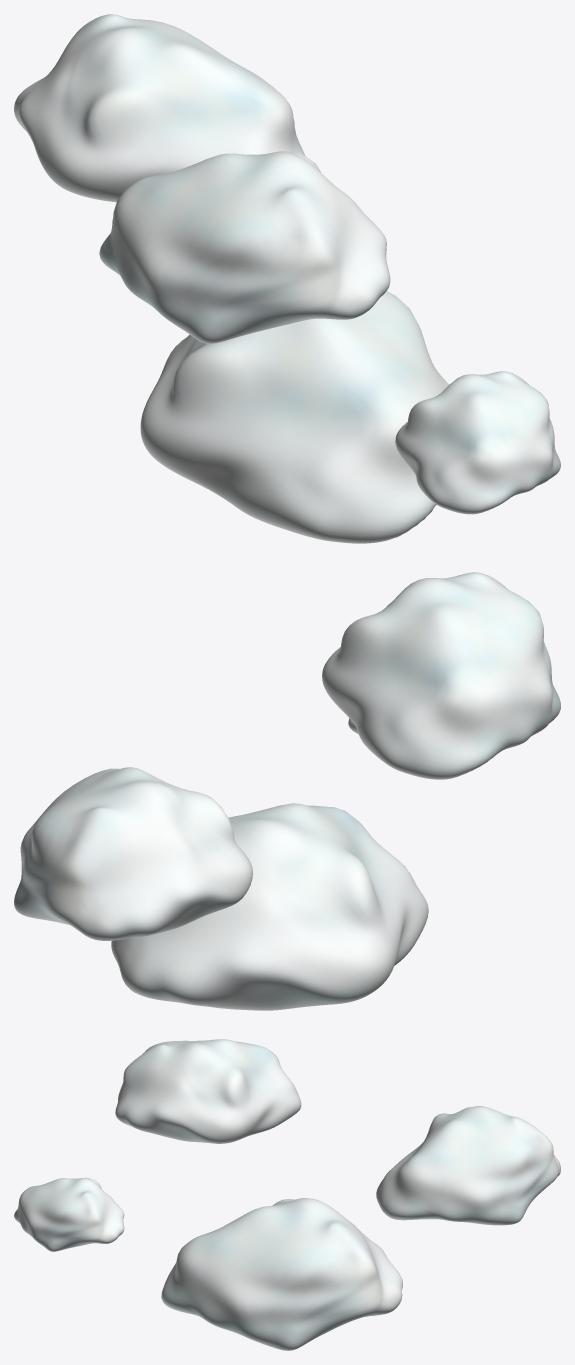
Rendered from kumo.fbx.
3 views of the same model, one above another, from view 1: azimuth 30°, elevation 25°; view 2: azimuth 150°, elevation 25°; view 3: azimuth 270°, elevation 25° (orthographic). The views are drawn at different scales.
Parts seen in each view (by area): view 1: kumo; view 2: kumo; view 3: kumo.
Part boxes in pixels (x1=…): kumo: x1=14, y1=14, x2=560, y2=543; kumo: x1=14, y1=572, x2=560, y2=1010; kumo: x1=14, y1=1039, x2=560, y2=1350.
Size of the model in its own units: 471 by 493 by 1007.
1 material, 1 textured.
